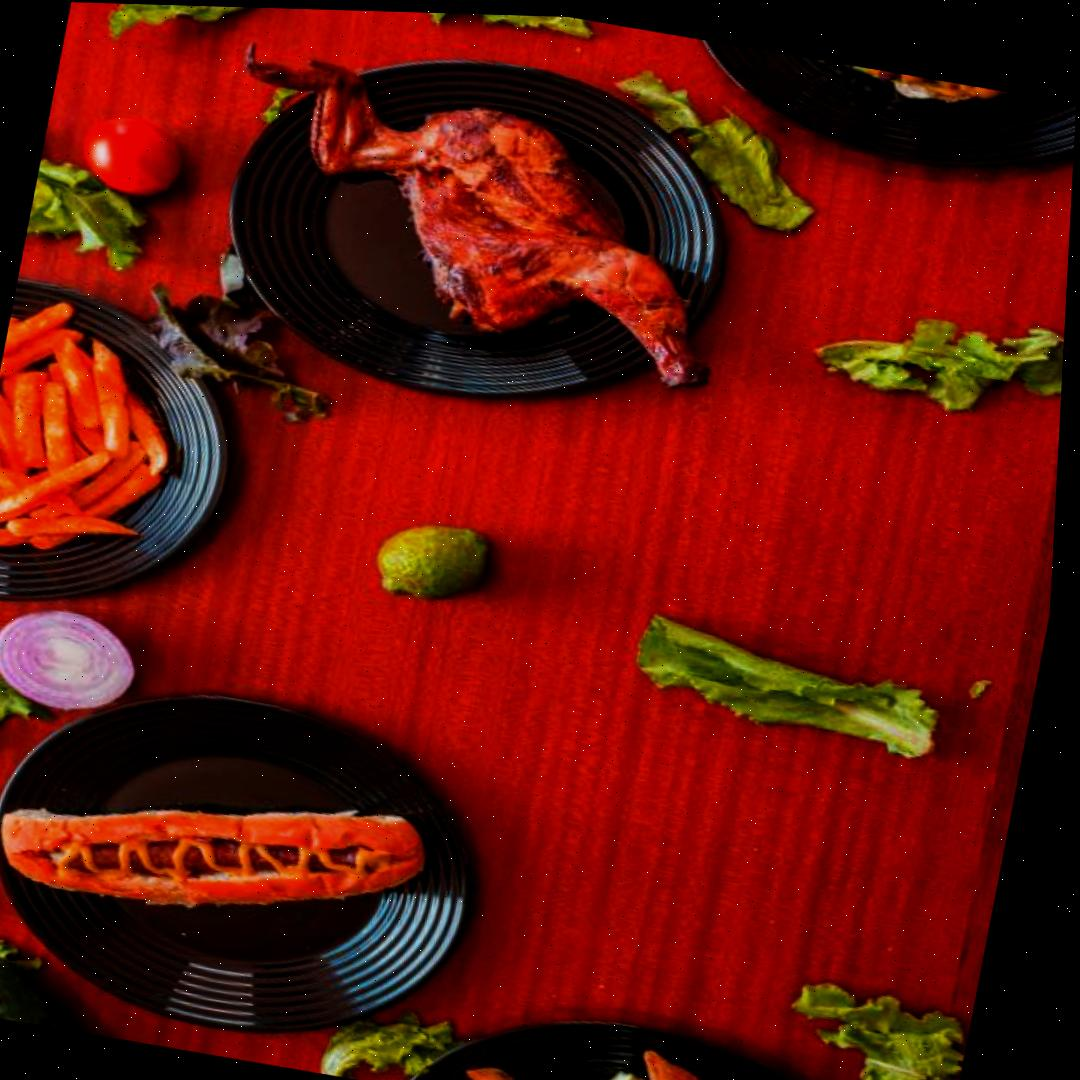matang: (76, 111, 191, 201)
